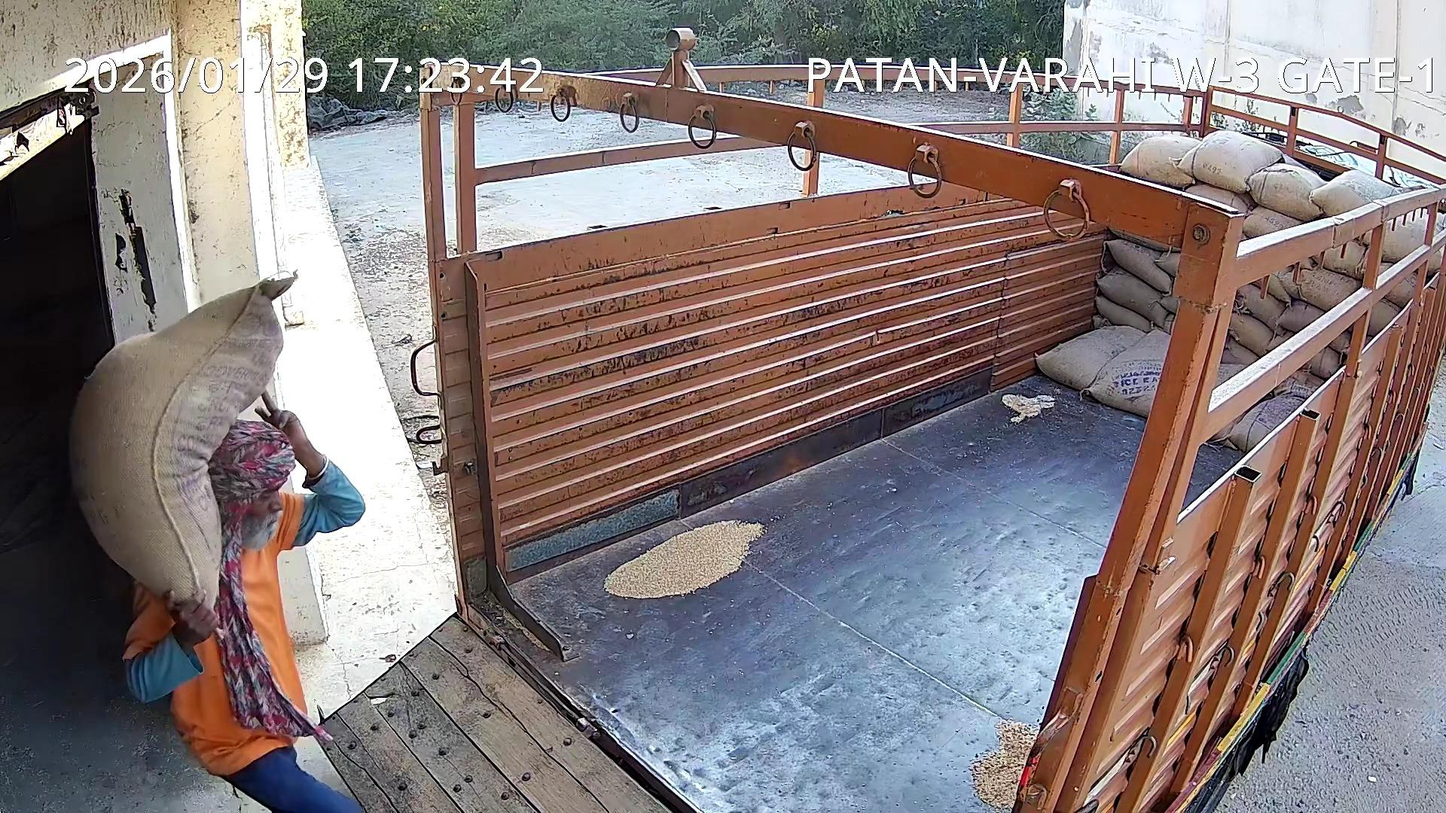Sack: (69, 276, 294, 598)
